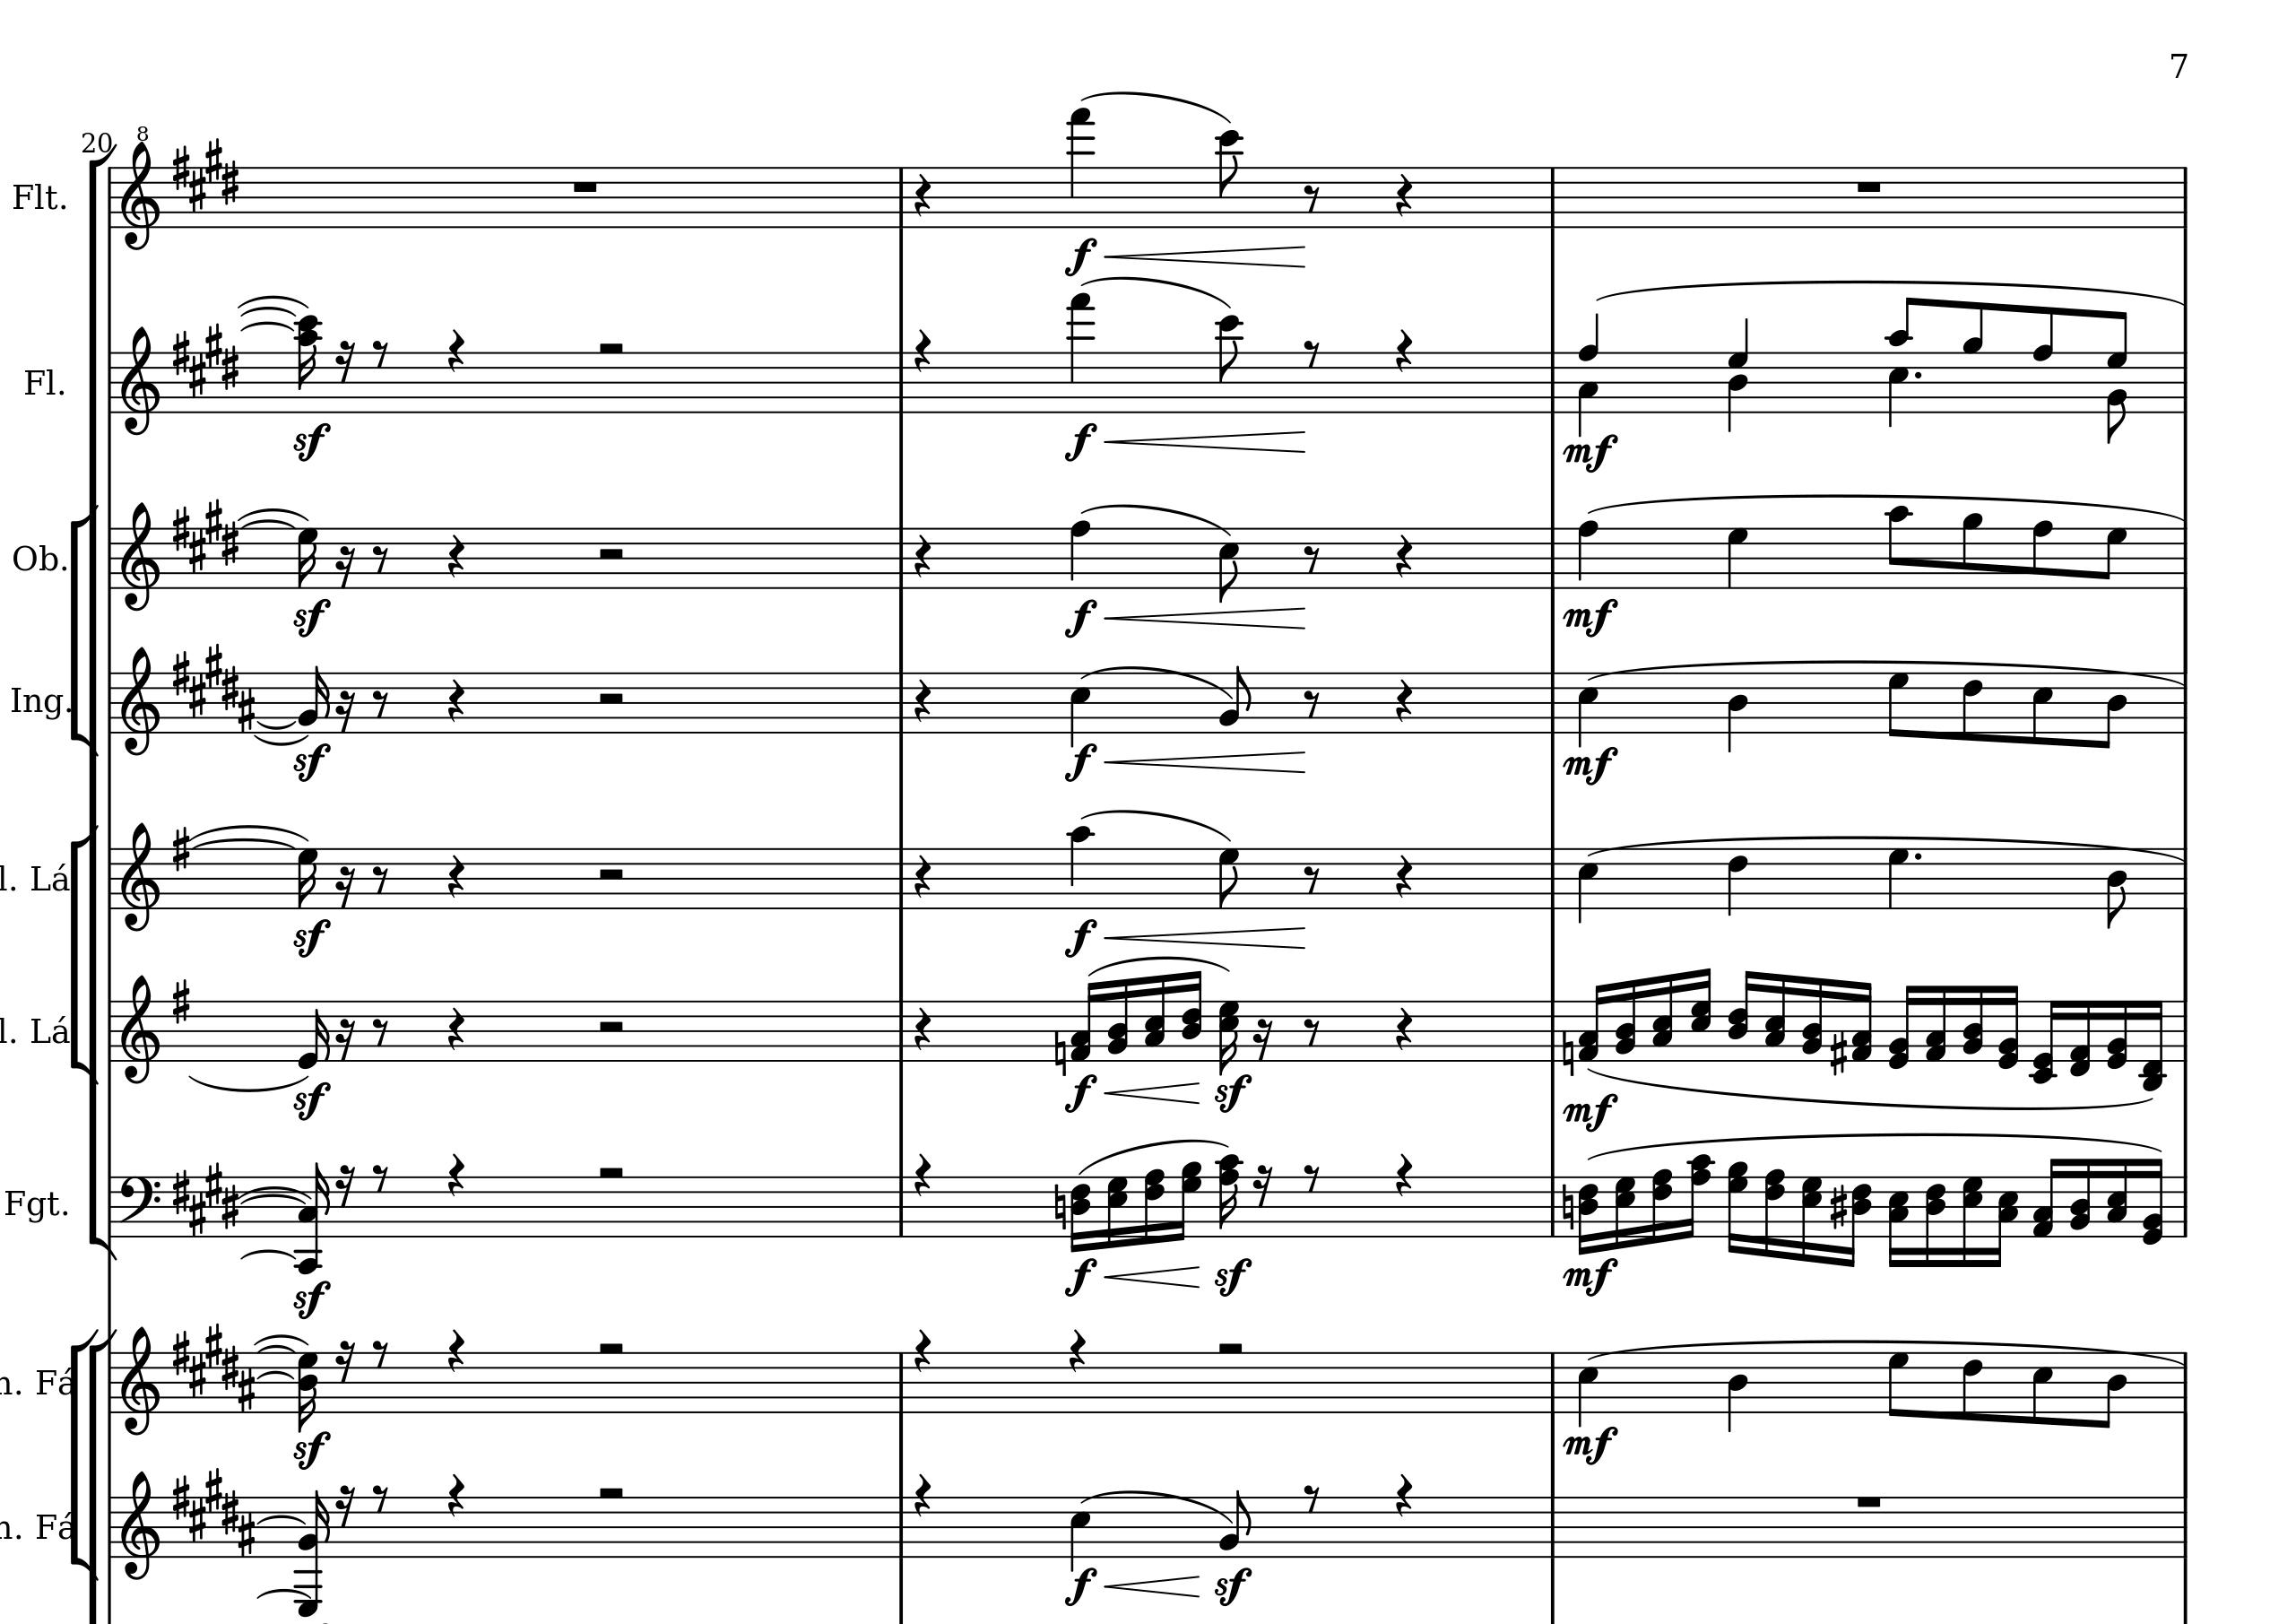0: (97, 128, 112, 153)
16_-1_1: (2069, 998, 2094, 1077)
16_-2_0: (2027, 998, 2061, 1084)
16_-3_-1: (2140, 998, 2166, 1093)
16_-4_3: (292, 1162, 332, 1272)
16_-7_2: (295, 1489, 330, 1617)
16_0: (295, 1000, 330, 1070)
16_0_2: (1888, 984, 1917, 1070), (2141, 1158, 2164, 1246), (1997, 984, 2020, 1069), (2106, 998, 2131, 1069)
16_10_12: (292, 315, 323, 413)
16_1_3: (1068, 981, 1103, 1062), (1576, 982, 1611, 1063), (2032, 1158, 2061, 1239), (1852, 981, 1876, 1065), (1925, 984, 1948, 1063)
16_2: (297, 664, 329, 731)
16_2_4: (1105, 979, 1133, 1062), (1611, 977, 1639, 1060), (1802, 975, 1825, 1065), (2069, 1158, 2092, 1239), (1962, 984, 1983, 1065)
16_3_5: (1994, 1176, 2020, 1267), (1887, 1176, 1911, 1267), (1650, 974, 1674, 1062), (1764, 972, 1787, 1063), (1144, 974, 1166, 1062), (2106, 1158, 2129, 1239)
16_4_6: (1729, 970, 1757, 1062), (1846, 1176, 1873, 1269), (1688, 967, 1713, 1062), (1180, 968, 1203, 1062), (1924, 1176, 1946, 1267), (1070, 1176, 1093, 1253), (1576, 1176, 1599, 1253)
16_4_7: (295, 1350, 320, 1438)
16_5_7: (1801, 1174, 1825, 1264), (1960, 1176, 1983, 1269), (1103, 1174, 1130, 1250), (1611, 1174, 1637, 1248), (1217, 998, 1240, 1076)
16_6_8: (1762, 1167, 1787, 1258), (1142, 1167, 1165, 1246), (1651, 1165, 1674, 1244)
16_7: (295, 845, 318, 910), (295, 526, 318, 589)
16_7_9: (1175, 1160, 1203, 1241), (1727, 1160, 1750, 1253)
16_8_10: (1210, 1153, 1242, 1241), (1685, 1153, 1716, 1239)
2: (79, 130, 97, 153)
4_10: (1068, 823, 1096, 909)
4_15: (1068, 105, 1094, 228), (1068, 292, 1094, 413)
4_3_8: (1578, 313, 1599, 432)
4_4: (1725, 671, 1750, 754), (1725, 1350, 1750, 1432)
4_4_7: (1727, 318, 1750, 432)
4_5: (1887, 348, 1910, 429), (1576, 670, 1599, 749), (1576, 1348, 1599, 1427), (1068, 670, 1091, 745), (1068, 1494, 1091, 1570), (1578, 845, 1599, 924)
4_6: (1727, 844, 1750, 916)
4_7: (1887, 838, 1911, 910), (1725, 526, 1750, 589)
4_8: (1576, 517, 1600, 591), (1068, 518, 1093, 589)
7: (2170, 47, 2189, 79)
8_10: (1887, 503, 1911, 591)
8_12: (1216, 313, 1244, 417), (1216, 127, 1242, 232)
8_2: (1219, 664, 1253, 735), (1219, 1487, 1253, 1555)
8_4: (2097, 670, 2127, 750), (2097, 1350, 2127, 1429), (2105, 844, 2129, 930)
8_5: (2029, 670, 2054, 745), (1887, 1339, 1910, 1418), (2031, 1348, 2054, 1427), (1217, 526, 1240, 603)
8_6: (1960, 1345, 1983, 1424), (1960, 668, 1983, 743)
8_7: (2096, 526, 2127, 591), (1887, 666, 1910, 738), (1217, 845, 1240, 910)
8_8: (2031, 302, 2055, 415), (2031, 518, 2054, 591)
8_9: (1962, 301, 1983, 415), (1960, 511, 1983, 591)
B_S: (169, 1466, 255, 1557)
Bracke: (86, 146, 118, 1258), (67, 1329, 97, 1582), (65, 510, 88, 752), (69, 826, 88, 1077)
Crescendo_hairpin: (1105, 605, 1309, 634), (1107, 427, 1307, 457), (1103, 749, 1305, 777), (1112, 244, 1309, 269), (1110, 924, 1309, 947), (1103, 1571, 1202, 1599), (1105, 1079, 1198, 1106), (1105, 1264, 1200, 1288)
E_S: (169, 642, 256, 731), (169, 1322, 255, 1411), (169, 320, 241, 397), (169, 137, 241, 211), (170, 496, 239, 573), (172, 1160, 237, 1237)
Fclef: (118, 1174, 162, 1239)
Fl: (11, 178, 58, 214), (19, 364, 58, 399), (2, 1510, 16, 1545)
Gclef: (118, 501, 162, 612), (118, 645, 162, 756), (119, 1323, 162, 1436), (119, 1469, 162, 1582), (119, 325, 162, 436), (118, 821, 160, 932), (118, 974, 160, 1084)
High_Gclef: (119, 123, 160, 250)
Natural: (1560, 1181, 1576, 1232), (1052, 1028, 1068, 1077), (1560, 1028, 1576, 1077), (1052, 1181, 1066, 1232)
Ob: (12, 540, 60, 576)
Rests1: (1853, 1490, 1885, 1510), (569, 178, 601, 195), (1853, 178, 1885, 195)
Rests16: (334, 543, 357, 589), (334, 863, 357, 909), (334, 1016, 357, 1062), (334, 1164, 357, 1209), (334, 1483, 357, 1529), (334, 339, 357, 383), (1251, 1018, 1274, 1062), (1251, 1164, 1274, 1207), (334, 1339, 357, 1383), (336, 689, 357, 733)
Rests2: (594, 1482, 627, 1501), (596, 337, 627, 357), (596, 1162, 627, 1181), (596, 1338, 627, 1357), (594, 545, 627, 562), (594, 689, 627, 707), (594, 865, 627, 882), (594, 1018, 627, 1035), (1216, 1338, 1245, 1357)
Rests4: (1393, 1149, 1414, 1197), (1066, 1327, 1087, 1374), (1395, 170, 1414, 218), (446, 325, 466, 373), (1395, 325, 1414, 373), (913, 531, 933, 578), (446, 677, 466, 724), (913, 677, 933, 724), (1395, 677, 1414, 724), (446, 852, 466, 900), (913, 852, 933, 900), (1395, 852, 1414, 900), (913, 172, 933, 218), (913, 327, 933, 373), (446, 533, 466, 578), (1395, 533, 1414, 578), (446, 1005, 466, 1051), (913, 1005, 933, 1051), (1395, 1005, 1414, 1051), (446, 1151, 466, 1197), (913, 1151, 933, 1197), (446, 1327, 466, 1373), (913, 1327, 933, 1373), (446, 1471, 466, 1517), (913, 1471, 933, 1517), (1395, 1471, 1414, 1517)
Rests8: (1302, 183, 1321, 214), (1302, 543, 1321, 575), (1302, 687, 1321, 719), (1302, 863, 1321, 895), (371, 1016, 390, 1048), (1302, 1016, 1321, 1048), (371, 1162, 390, 1193), (1302, 1162, 1321, 1193), (1302, 337, 1321, 367), (371, 1338, 390, 1367), (371, 1482, 390, 1512), (1302, 1482, 1321, 1512), (371, 543, 388, 575), (371, 687, 388, 719), (371, 863, 388, 895), (371, 337, 388, 367)
Sharp: (169, 975, 193, 1026), (169, 824, 191, 872), (1829, 1183, 1848, 1232), (1829, 1030, 1848, 1076)
Single_barline: (1544, 526, 1563, 587), (1544, 671, 1563, 733), (1544, 1000, 1563, 1062), (1544, 1352, 1563, 1413), (1542, 1496, 1562, 1557), (891, 352, 910, 411), (1544, 352, 1563, 411), (2175, 847, 2192, 910), (2175, 998, 2192, 1062), (2175, 1174, 2192, 1237), (1544, 847, 1562, 909), (1544, 1176, 1562, 1237), (1544, 167, 1562, 227), (891, 527, 908, 587), (891, 671, 908, 731), (891, 847, 908, 907), (891, 1000, 908, 1060), (891, 1176, 908, 1236), (892, 1496, 910, 1555), (892, 167, 908, 227), (2177, 167, 2192, 227), (2177, 352, 2192, 411), (2177, 529, 2192, 589), (2177, 673, 2192, 733), (892, 1352, 908, 1411), (2177, 1497, 2192, 1557), (104, 847, 118, 909), (104, 1176, 118, 1237), (104, 167, 118, 227), (104, 352, 118, 411), (104, 527, 118, 587), (104, 673, 118, 733), (104, 1000, 118, 1060), (104, 1352, 118, 1411), (104, 1496, 118, 1555), (2180, 1352, 2192, 1413)
Slur: (1586, 1070, 2148, 1113), (1588, 1336, 2184, 1371), (1590, 657, 2185, 689), (1590, 831, 2180, 863), (1592, 278, 2180, 309), (1588, 1130, 2161, 1162), (1590, 496, 2185, 515), (1077, 276, 1235, 311), (1077, 664, 1233, 700), (1077, 503, 1233, 536), (1082, 90, 1237, 123), (1079, 808, 1233, 842), (1079, 1139, 1233, 1172), (1077, 1489, 1230, 1522), (1091, 954, 1233, 974), (191, 823, 313, 840), (188, 1074, 307, 1091), (234, 295, 311, 313), (193, 838, 295, 851), (237, 506, 311, 520), (239, 1185, 313, 1199), (239, 515, 300, 529), (255, 1334, 309, 1350), (242, 1195, 306, 1207), (241, 322, 293, 336), (235, 308, 295, 320), (253, 733, 309, 745), (255, 1513, 307, 1526), (255, 1587, 306, 1599), (239, 1248, 297, 1258), (253, 719, 300, 729), (258, 1343, 293, 1355), (256, 1369, 295, 1380)
dot: (1911, 367, 1924, 381), (1911, 849, 1924, 863)
f: (1061, 234, 1100, 278), (1061, 420, 1098, 464), (1063, 1072, 1100, 1114), (1061, 1255, 1098, 1297), (1063, 916, 1098, 958), (1063, 598, 1098, 638), (1063, 742, 1098, 782), (1063, 1566, 1098, 1606)
mf: (1560, 1424, 1620, 1468), (1562, 1090, 1620, 1134), (1560, 745, 1620, 787), (1560, 431, 1618, 473), (1562, 596, 1620, 638), (1560, 1255, 1618, 1297)
sf: (290, 740, 330, 782), (290, 1079, 330, 1121), (290, 1280, 330, 1320), (292, 1429, 330, 1469), (292, 422, 330, 460), (292, 917, 329, 958), (1214, 1257, 1251, 1297), (1214, 1566, 1251, 1606), (292, 598, 329, 636), (1214, 1074, 1251, 1111)
